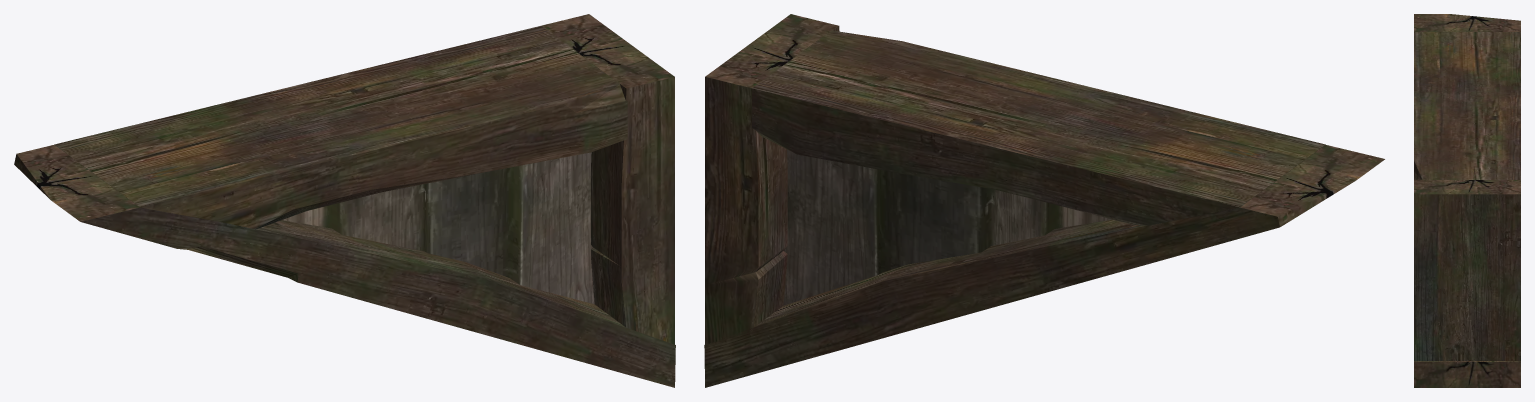
3 renders of one model, left to right at view 1: azimuth 30°, elevation 25°; view 2: azimuth 150°, elevation 25°; view 3: azimuth 270°, elevation 25°, orthographic. The views are drawn at different scales.
Parts seen in each view (by area): view 1: SM_BB_T1_Wall_Slanted_Shallow_Med_Inverted_LOD0; view 2: SM_BB_T1_Wall_Slanted_Shallow_Med_Inverted_LOD0; view 3: SM_BB_T1_Wall_Slanted_Shallow_Med_Inverted_LOD0.
Part boxes in pixels (x1=…): SM_BB_T1_Wall_Slanted_Shallow_Med_Inverted_LOD0: x1=14, y1=14, x2=675, y2=387; SM_BB_T1_Wall_Slanted_Shallow_Med_Inverted_LOD0: x1=704, y1=14, x2=1384, y2=387; SM_BB_T1_Wall_Slanted_Shallow_Med_Inverted_LOD0: x1=1414, y1=14, x2=1520, y2=387.
Size of the model in its own units: 1.5 by 0.7502 by 0.375.
Materials: 2 (2 with a texture image).
